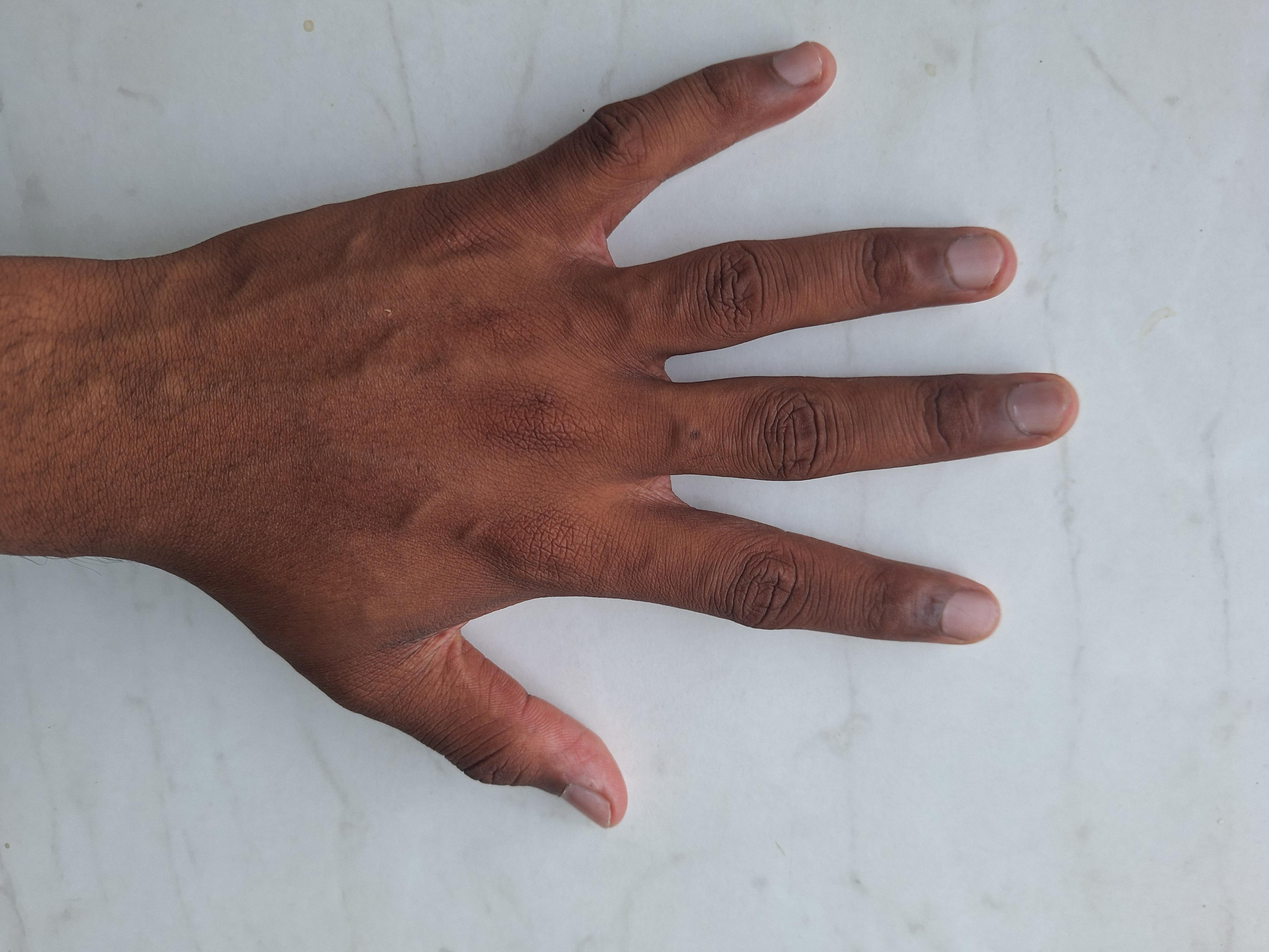Fingernail: (1008, 380, 1071, 435), (946, 234, 1002, 290), (942, 590, 998, 640), (560, 784, 611, 829), (774, 41, 821, 84)
